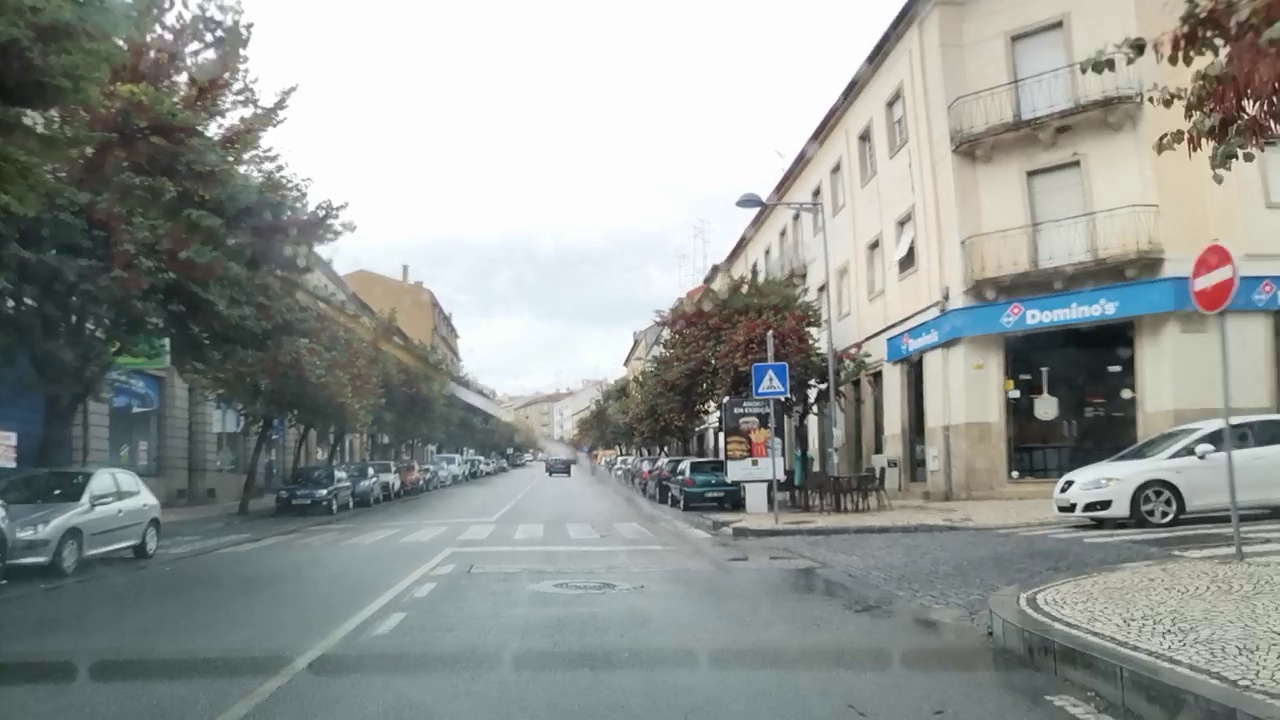Stairs: (183, 517, 711, 549)
